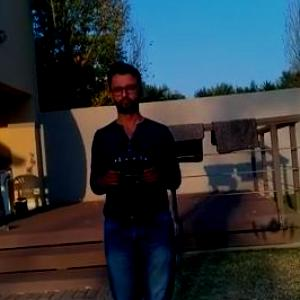follow: (89, 56, 193, 299)
